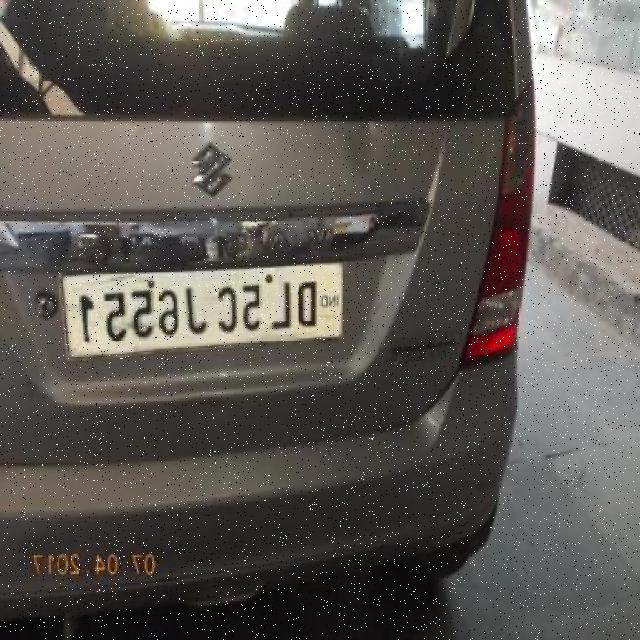damage: (343, 126, 394, 197)
